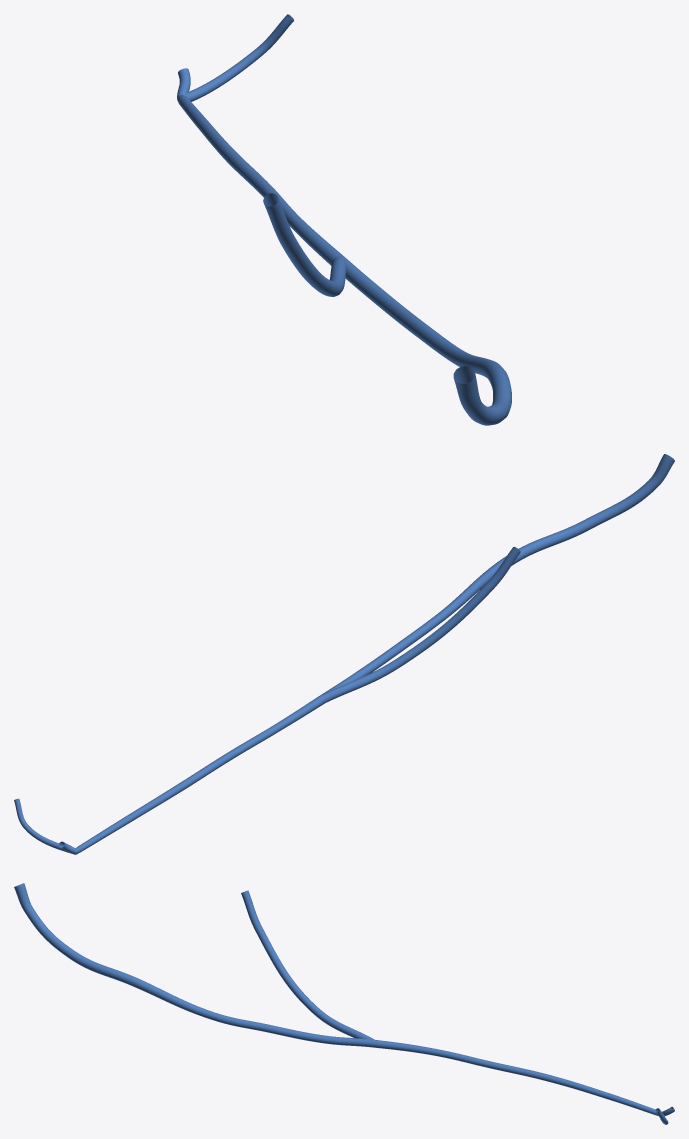
The picture shows the model from 3 angles, top to bottom: view 1: azimuth 30°, elevation 25°; view 2: azimuth 150°, elevation 25°; view 3: azimuth 270°, elevation 25°; orthographic projection. The views are drawn at different scales.
Visible parts, largest first — view 1: 左侧前臂正中静脉; view 2: 左侧前臂正中静脉; view 3: 左侧前臂正中静脉.
Boxes of the visible parts, bbox=[...] form: 左侧前臂正中静脉: bbox=[177, 14, 511, 425]; 左侧前臂正中静脉: bbox=[14, 454, 674, 854]; 左侧前臂正中静脉: bbox=[14, 883, 674, 1124].
Bounding box in the file's own units: 0.1276 × 0.0752 × 0.3063.
